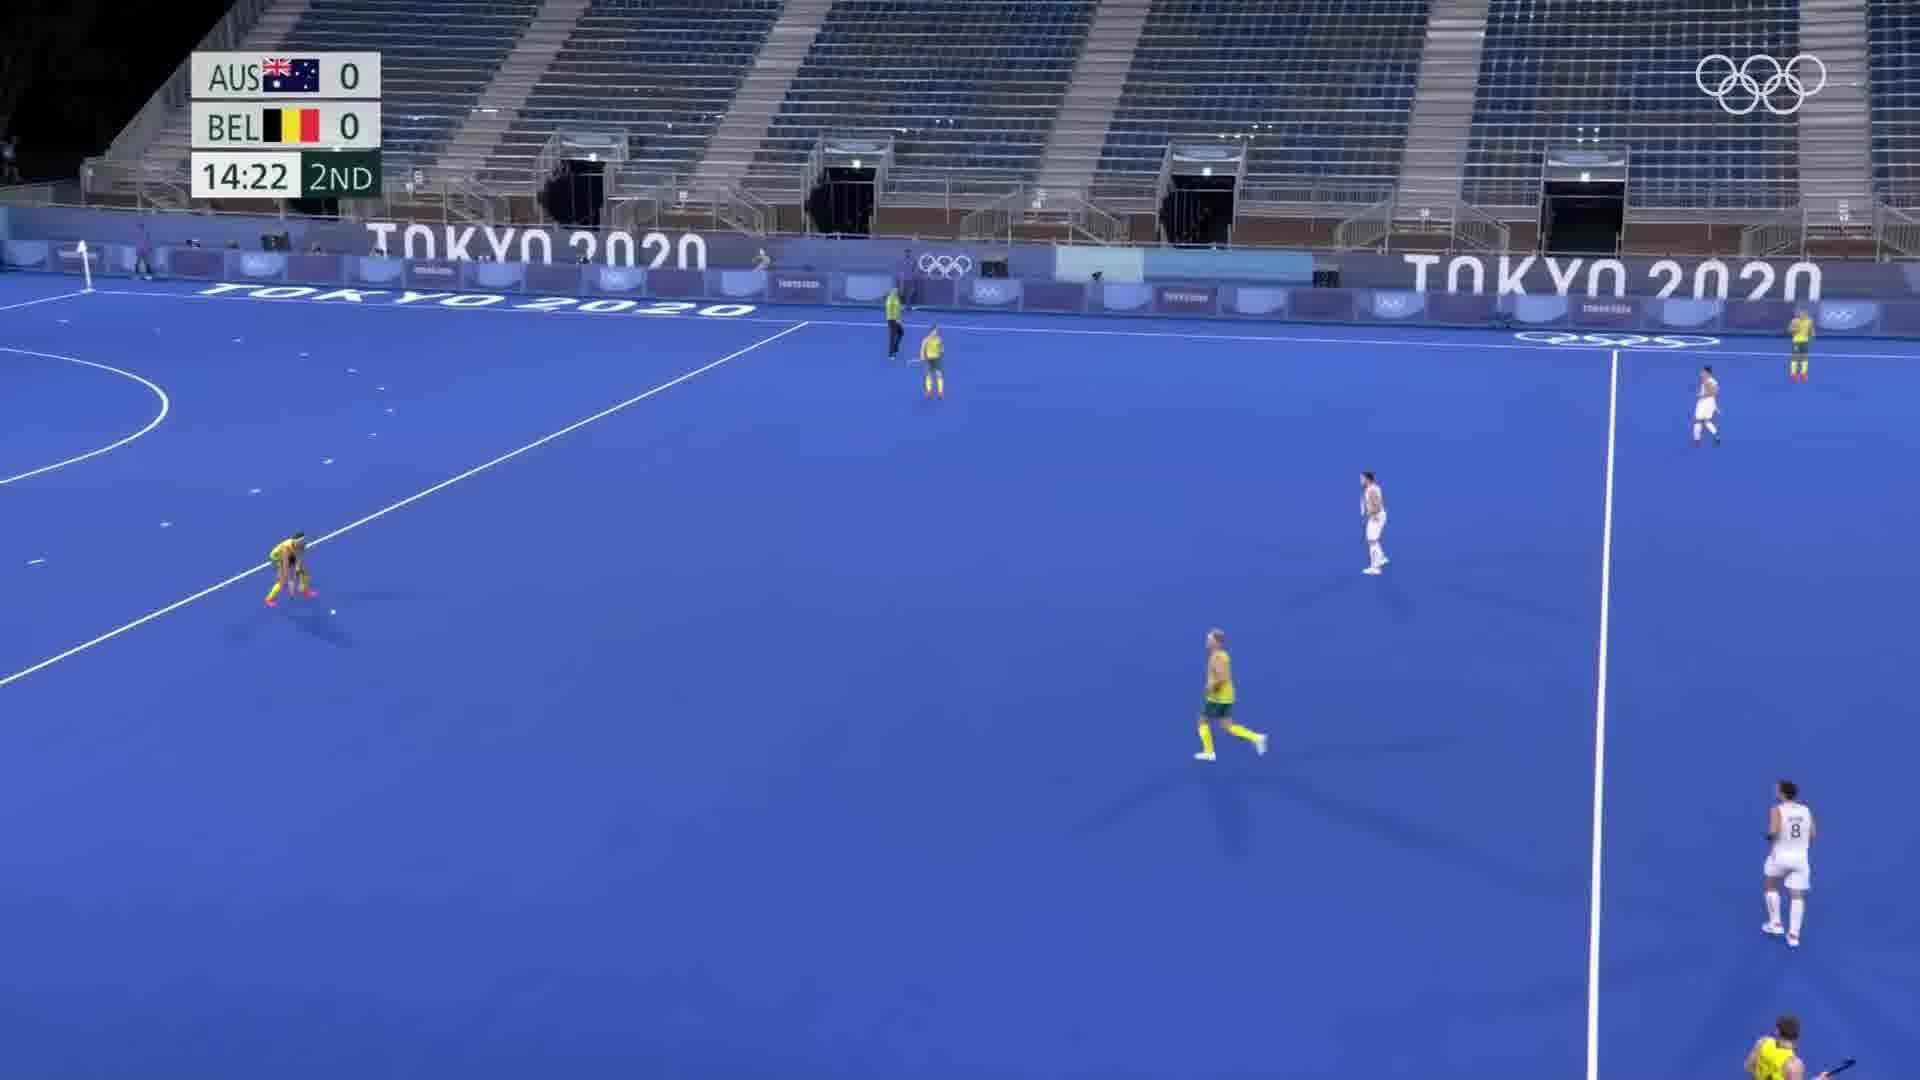ball: (324, 607, 339, 618)
